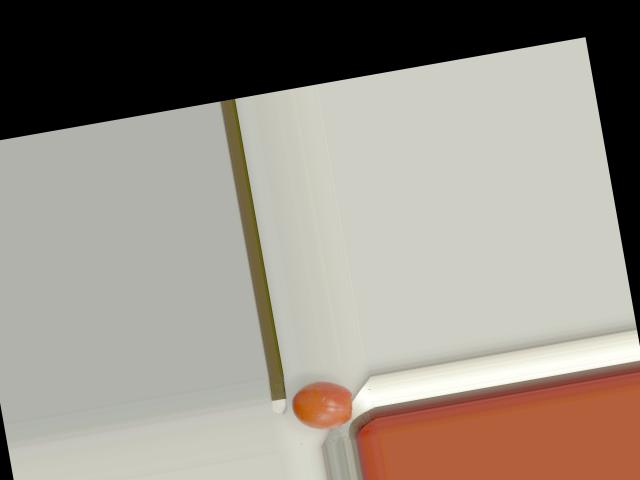tomato: (288, 376, 357, 434)
